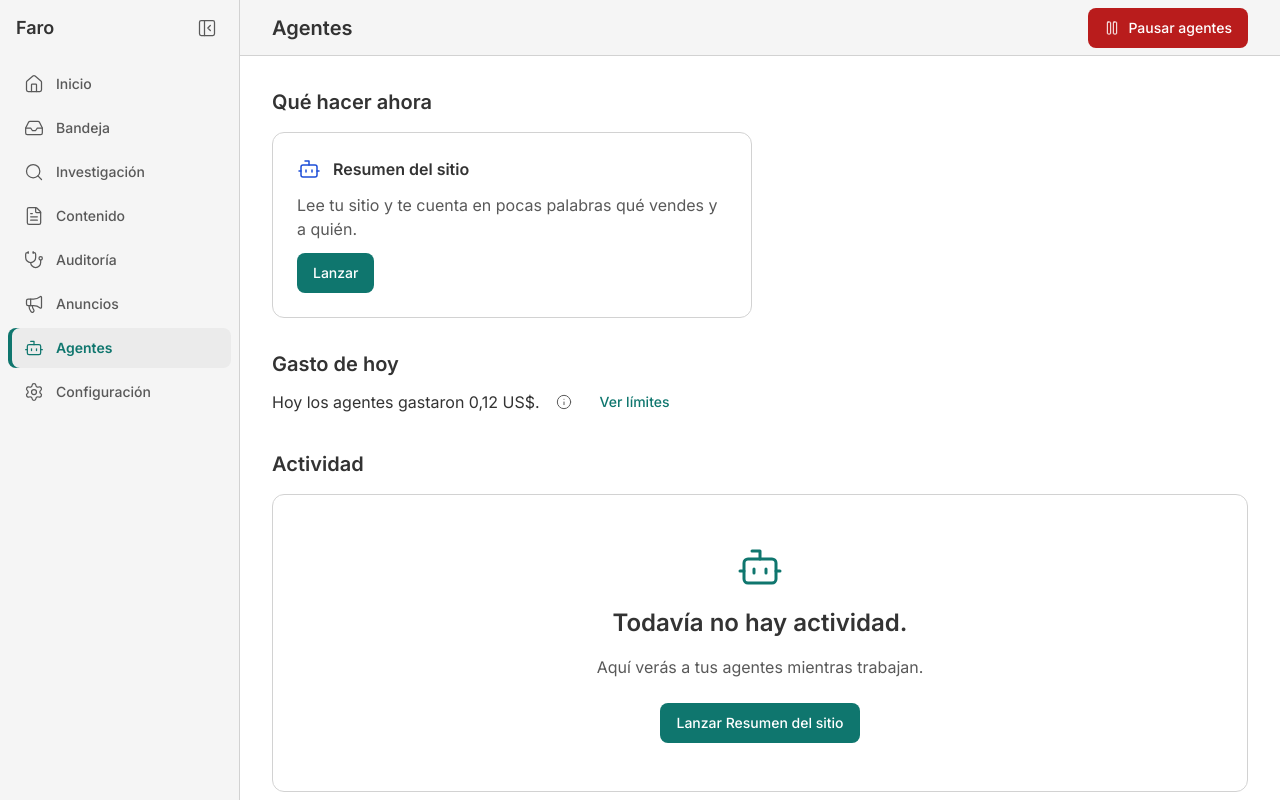
Test: Lanzar Resumen del sitio (spec F1b §3.3) › bloqueado por llm.no_key: mensaje y botón deshabilitado
What coordinates should you click on to do the following:
click the button with aria-label "Lanzar Resumen del sitio"
I would click on:
 (336, 273)
Its box is x1=297 y1=253 x2=374 y2=293.
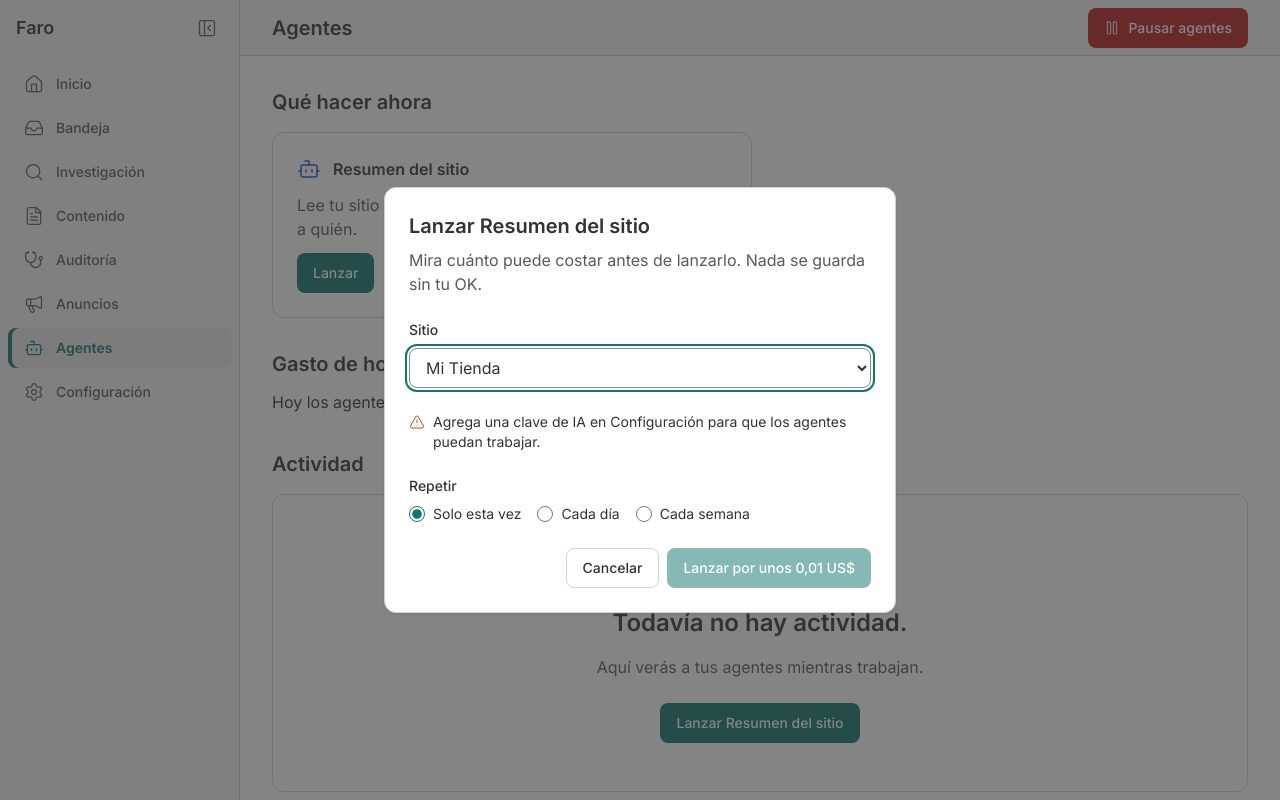
Check: the text "Agrega una clave de IA en Configuración para que los agentes puedan trabajar." is shown, box x1=409 y1=412 x2=871 y2=452
Check: the button "Lanzar por unos 0,01 US$" is disabled, box x1=667 y1=548 x2=871 y2=588
